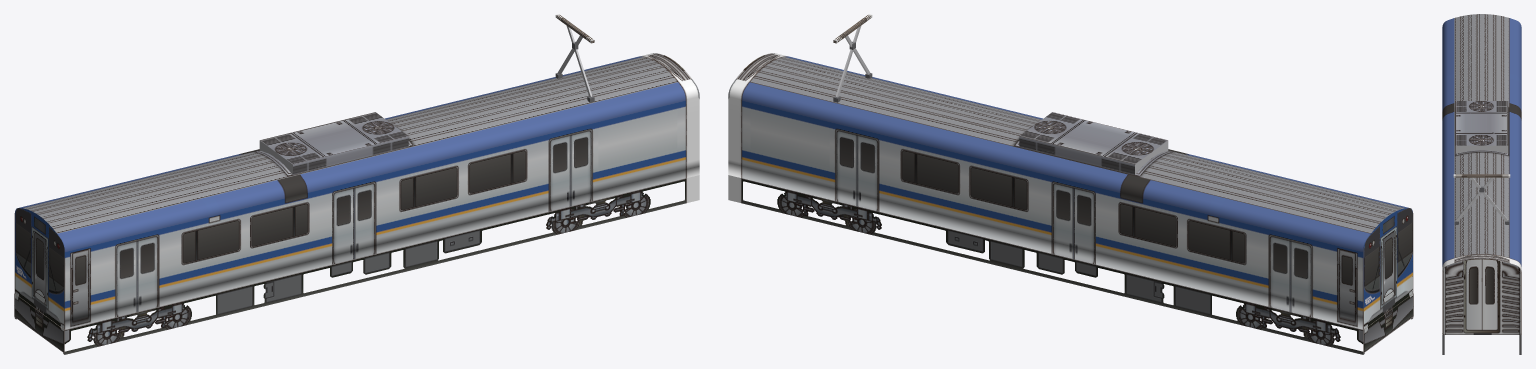
File: sat721-1.glb
3 renders of one model, left to right at view 1: azimuth 30°, elevation 25°; view 2: azimuth 150°, elevation 25°; view 3: azimuth 270°, elevation 25°, orthographic. The views are drawn at different scales.
Visible parts, largest first — view 1: SAT721; view 2: SAT721; view 3: SAT721.
Part boxes in pixels (x1=…): SAT721: x1=14, y1=14, x2=699, y2=354; SAT721: x1=728, y1=14, x2=1413, y2=354; SAT721: x1=1442, y1=14, x2=1521, y2=354.
Size of the model in its own units: 19.58 by 5.26 by 2.67.
Materials: 11 (8 with a texture image).
